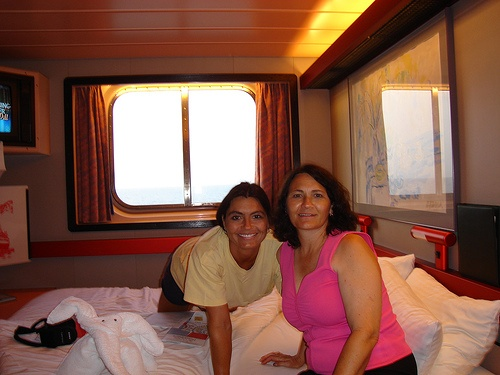head: (270, 165, 355, 234), (214, 182, 273, 260)
person: (250, 164, 422, 374), (158, 182, 281, 372)
